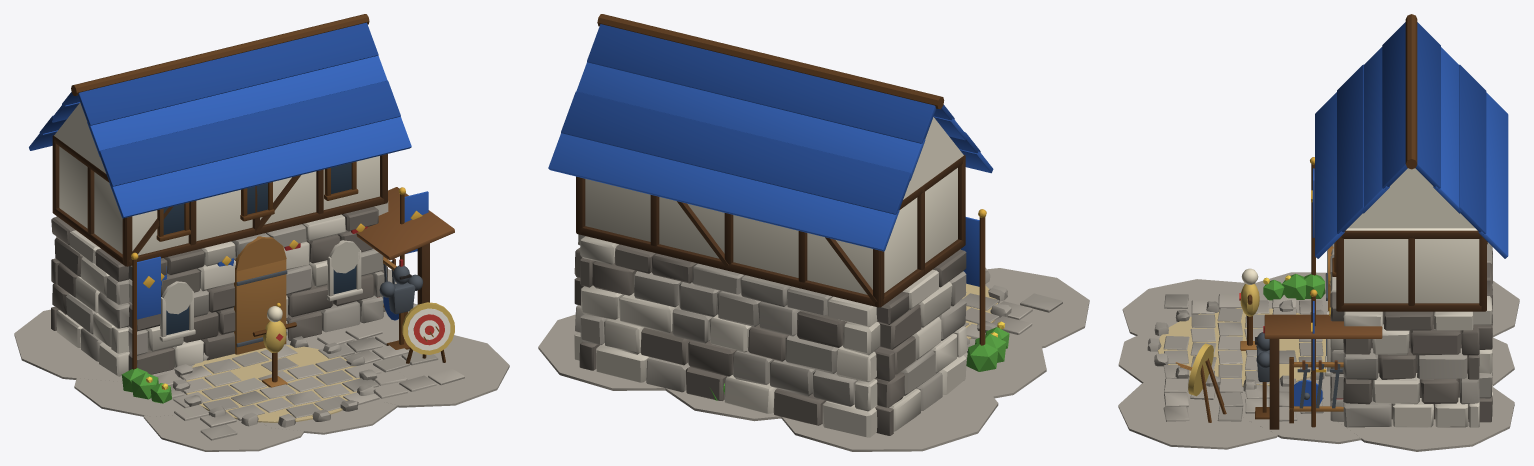
File: koszary_poz15.glb
The picture shows the model from 3 angles, left to right: view 1: azimuth 30°, elevation 25°; view 2: azimuth 150°, elevation 25°; view 3: azimuth 270°, elevation 25°; orthographic projection. The views are drawn at different scales.
Visible parts, largest first — view 1: koszary_poz15; view 2: koszary_poz15; view 3: koszary_poz15.
Part boxes in pixels (x1=…): koszary_poz15: x1=14, y1=14, x2=509, y2=451; koszary_poz15: x1=538, y1=14, x2=1089, y2=451; koszary_poz15: x1=1118, y1=14, x2=1519, y2=451.
Size of the model in its own units: 8.83 by 6.35 by 8.2.
